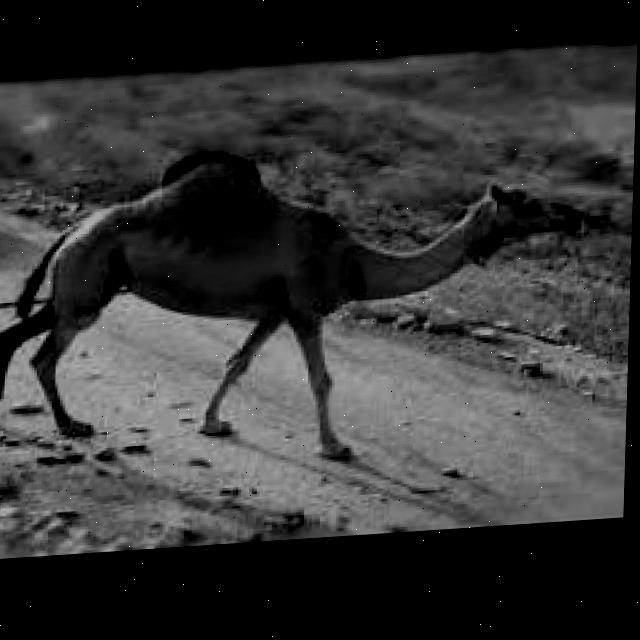Camel: (0, 123, 587, 485)
